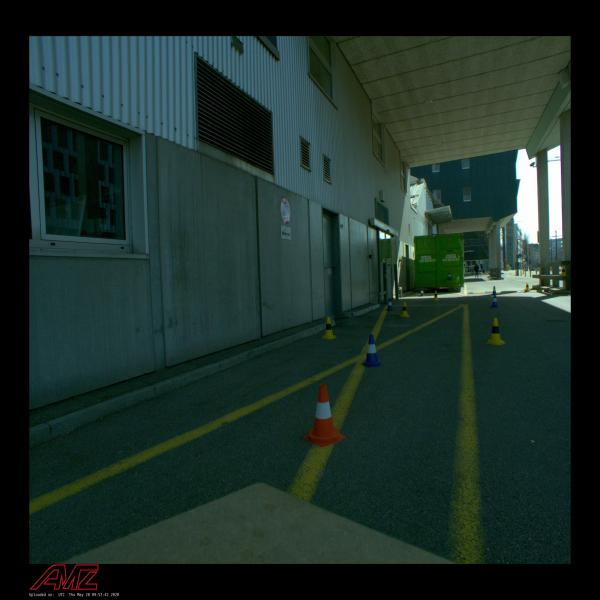blue_cone: (360, 334, 384, 368), (490, 295, 499, 307), (386, 298, 394, 311), (491, 286, 498, 295), (420, 288, 424, 297)
orange_cone: (304, 384, 347, 446)
yellow_cone: (486, 318, 506, 345), (321, 316, 337, 340), (400, 302, 409, 317), (524, 282, 530, 292), (433, 290, 439, 300)
